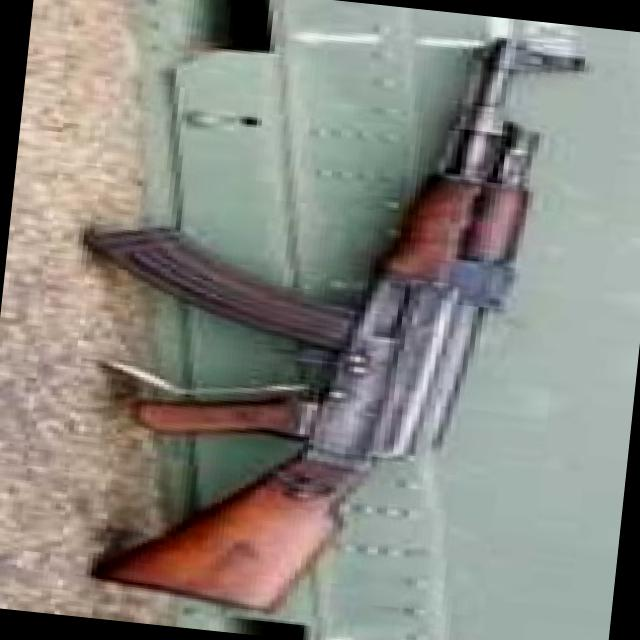long weapon: (84, 4, 615, 639)
